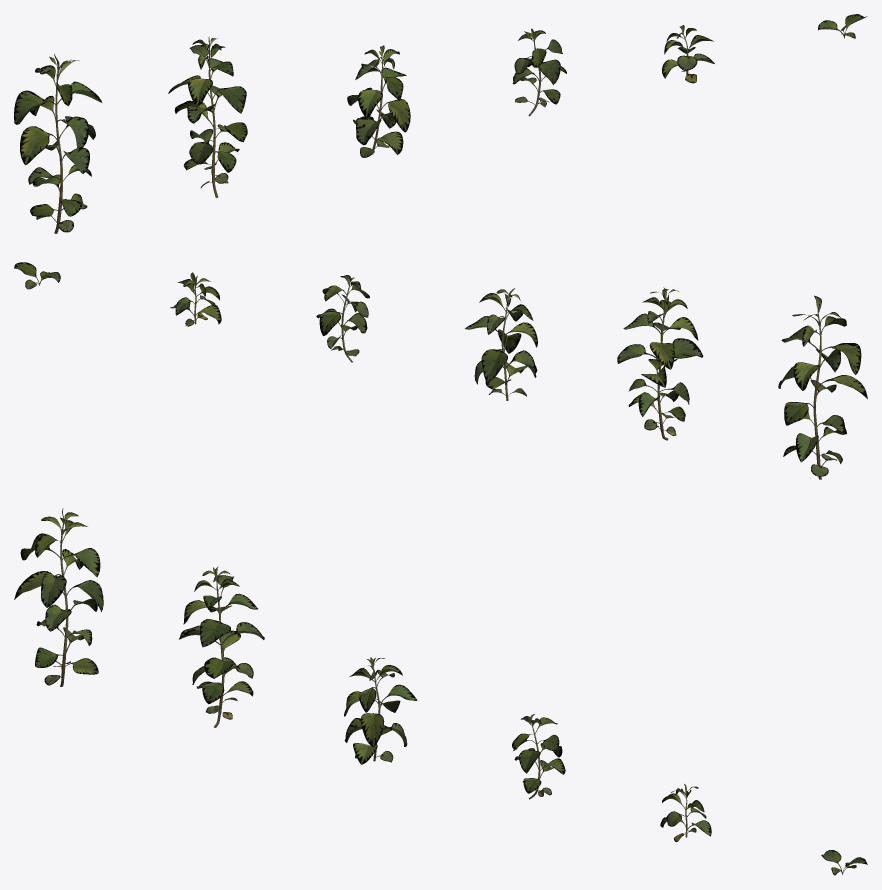
The model's file is nettle_plant.gltf.
3 renders of one model, top to bottom at view 1: azimuth 30°, elevation 25°; view 2: azimuth 150°, elevation 25°; view 3: azimuth 330°, elevation 25°, orthographic.
Parts seen in each view (by area): view 1: nettle_plant_tall_a_LOD0, nettle_plant_tall_b_LOD0, nettle_plant_medium_a_LOD0, nettle_plant_medium_b_LOD0, nettle_plant_small_a_LOD0; view 2: nettle_plant_tall_a_LOD0, nettle_plant_tall_b_LOD0, nettle_plant_medium_a_LOD0, nettle_plant_medium_b_LOD0, nettle_plant_small_a_LOD0, nettle_plant_small_b_LOD0; view 3: nettle_plant_tall_a_LOD0, nettle_plant_tall_b_LOD0, nettle_plant_medium_a_LOD0, nettle_plant_medium_b_LOD0, nettle_plant_small_a_LOD0.
Boxes of the visible parts, left/top/right/bottom form: nettle_plant_tall_a_LOD0: left=14, top=54, right=102, bottom=233; nettle_plant_tall_b_LOD0: left=168, top=36, right=247, bottom=197; nettle_plant_medium_a_LOD0: left=347, top=45, right=410, bottom=157; nettle_plant_medium_b_LOD0: left=512, top=28, right=566, bottom=116; nettle_plant_small_a_LOD0: left=662, top=25, right=714, bottom=83; nettle_plant_tall_a_LOD0: left=778, top=295, right=867, bottom=479; nettle_plant_tall_b_LOD0: left=617, top=287, right=703, bottom=440; nettle_plant_medium_a_LOD0: left=465, top=288, right=537, bottom=400; nettle_plant_medium_b_LOD0: left=316, top=275, right=369, bottom=362; nettle_plant_small_a_LOD0: left=170, top=272, right=221, bottom=326; nettle_plant_small_b_LOD0: left=14, top=262, right=60, bottom=289; nettle_plant_tall_a_LOD0: left=14, top=508, right=103, bottom=686; nettle_plant_tall_b_LOD0: left=179, top=566, right=264, bottom=727; nettle_plant_medium_a_LOD0: left=344, top=657, right=417, bottom=764; nettle_plant_medium_b_LOD0: left=512, top=714, right=565, bottom=799; nettle_plant_small_a_LOD0: left=660, top=784, right=711, bottom=842.
Bounding box in the file's own units: 1.08 × 0.2184 × 0.0947.
1 material, 1 textured.
